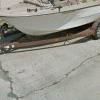Boat: (2, 3, 99, 44)
